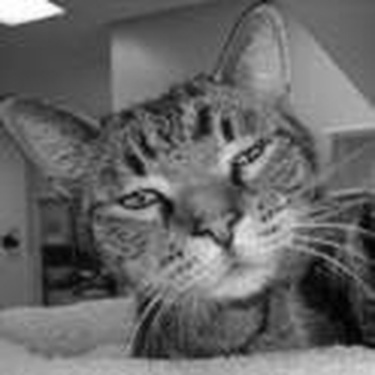cat: (6, 6, 372, 361)
